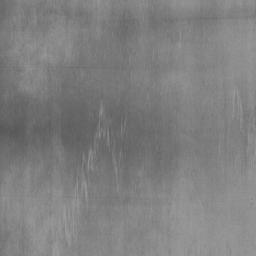Silk spot: (0, 0, 256, 256), (191, 56, 256, 175), (168, 240, 231, 256)
